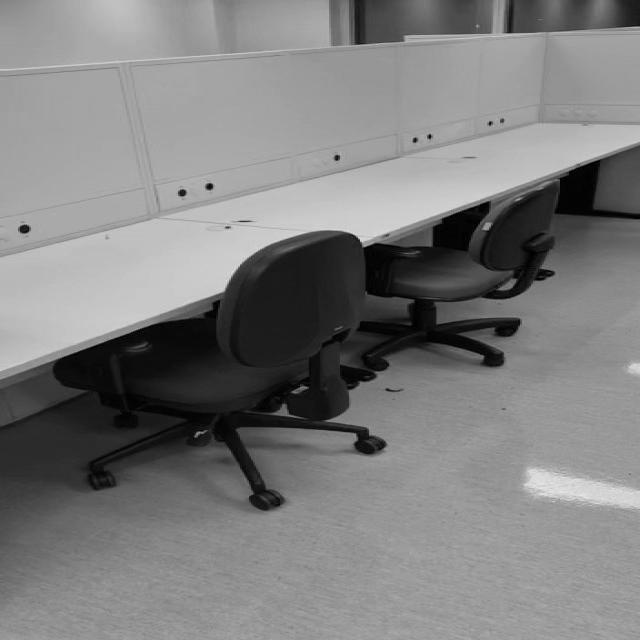chair: (54, 228, 388, 510)
